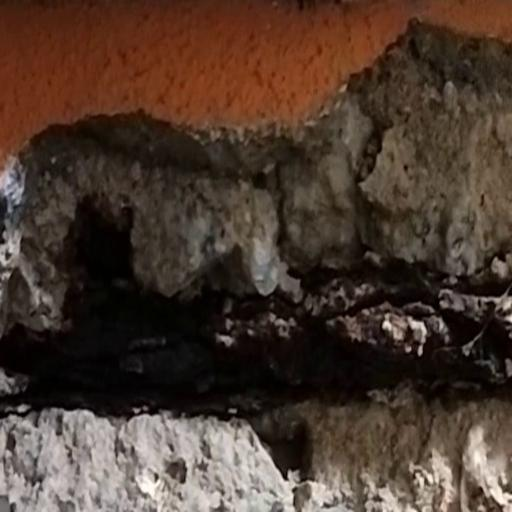spalling: (12, 9, 512, 460)
